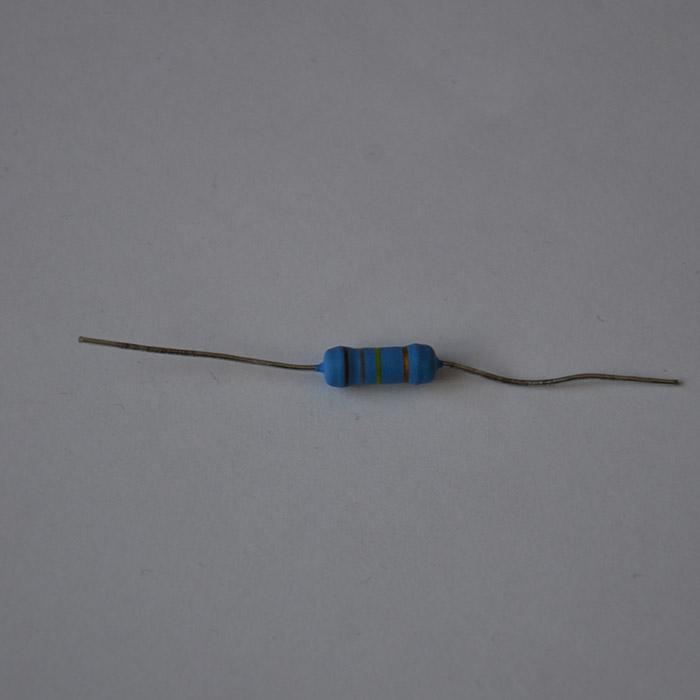resistor: (318, 343, 442, 388)
